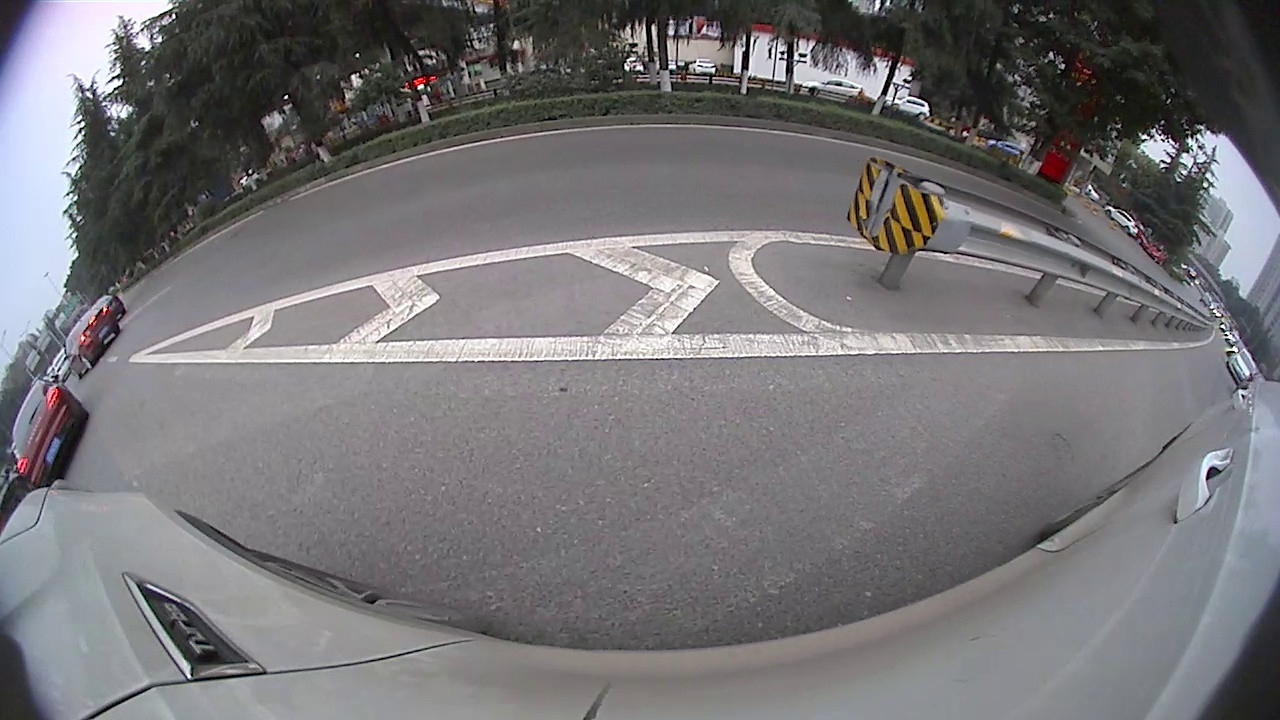car: (9, 378, 90, 489), (61, 302, 123, 379), (1226, 348, 1259, 391)
rear: (78, 355, 95, 373)
